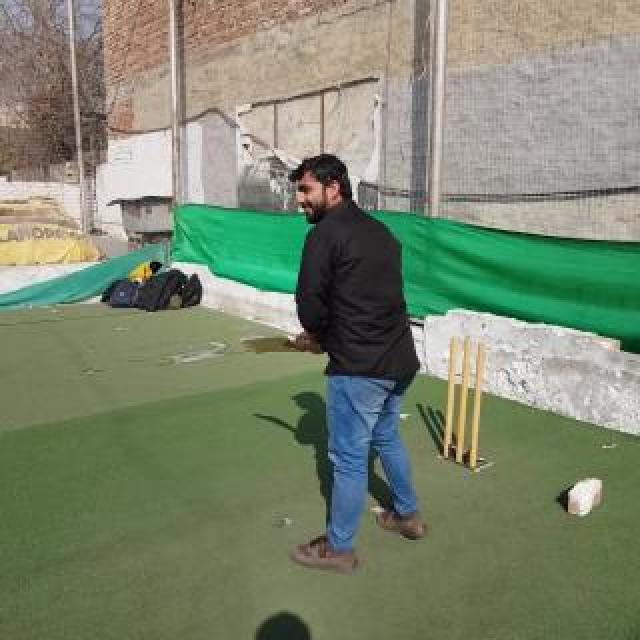bat: (242, 334, 306, 354)
